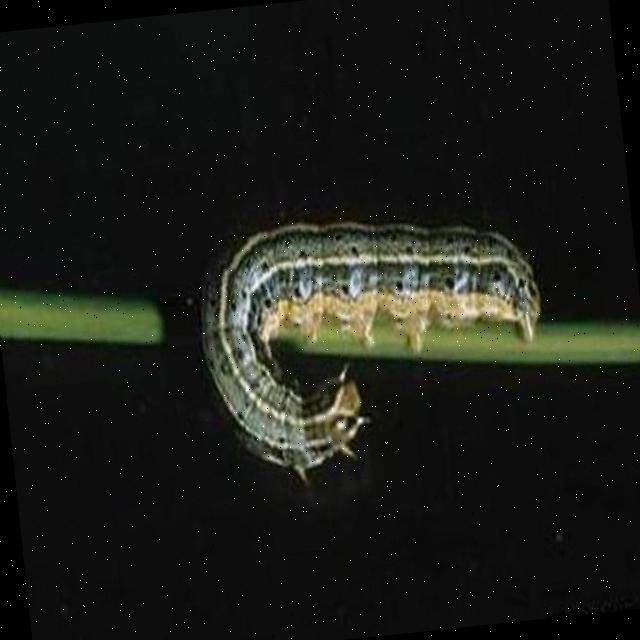worm: (190, 196, 560, 495)
